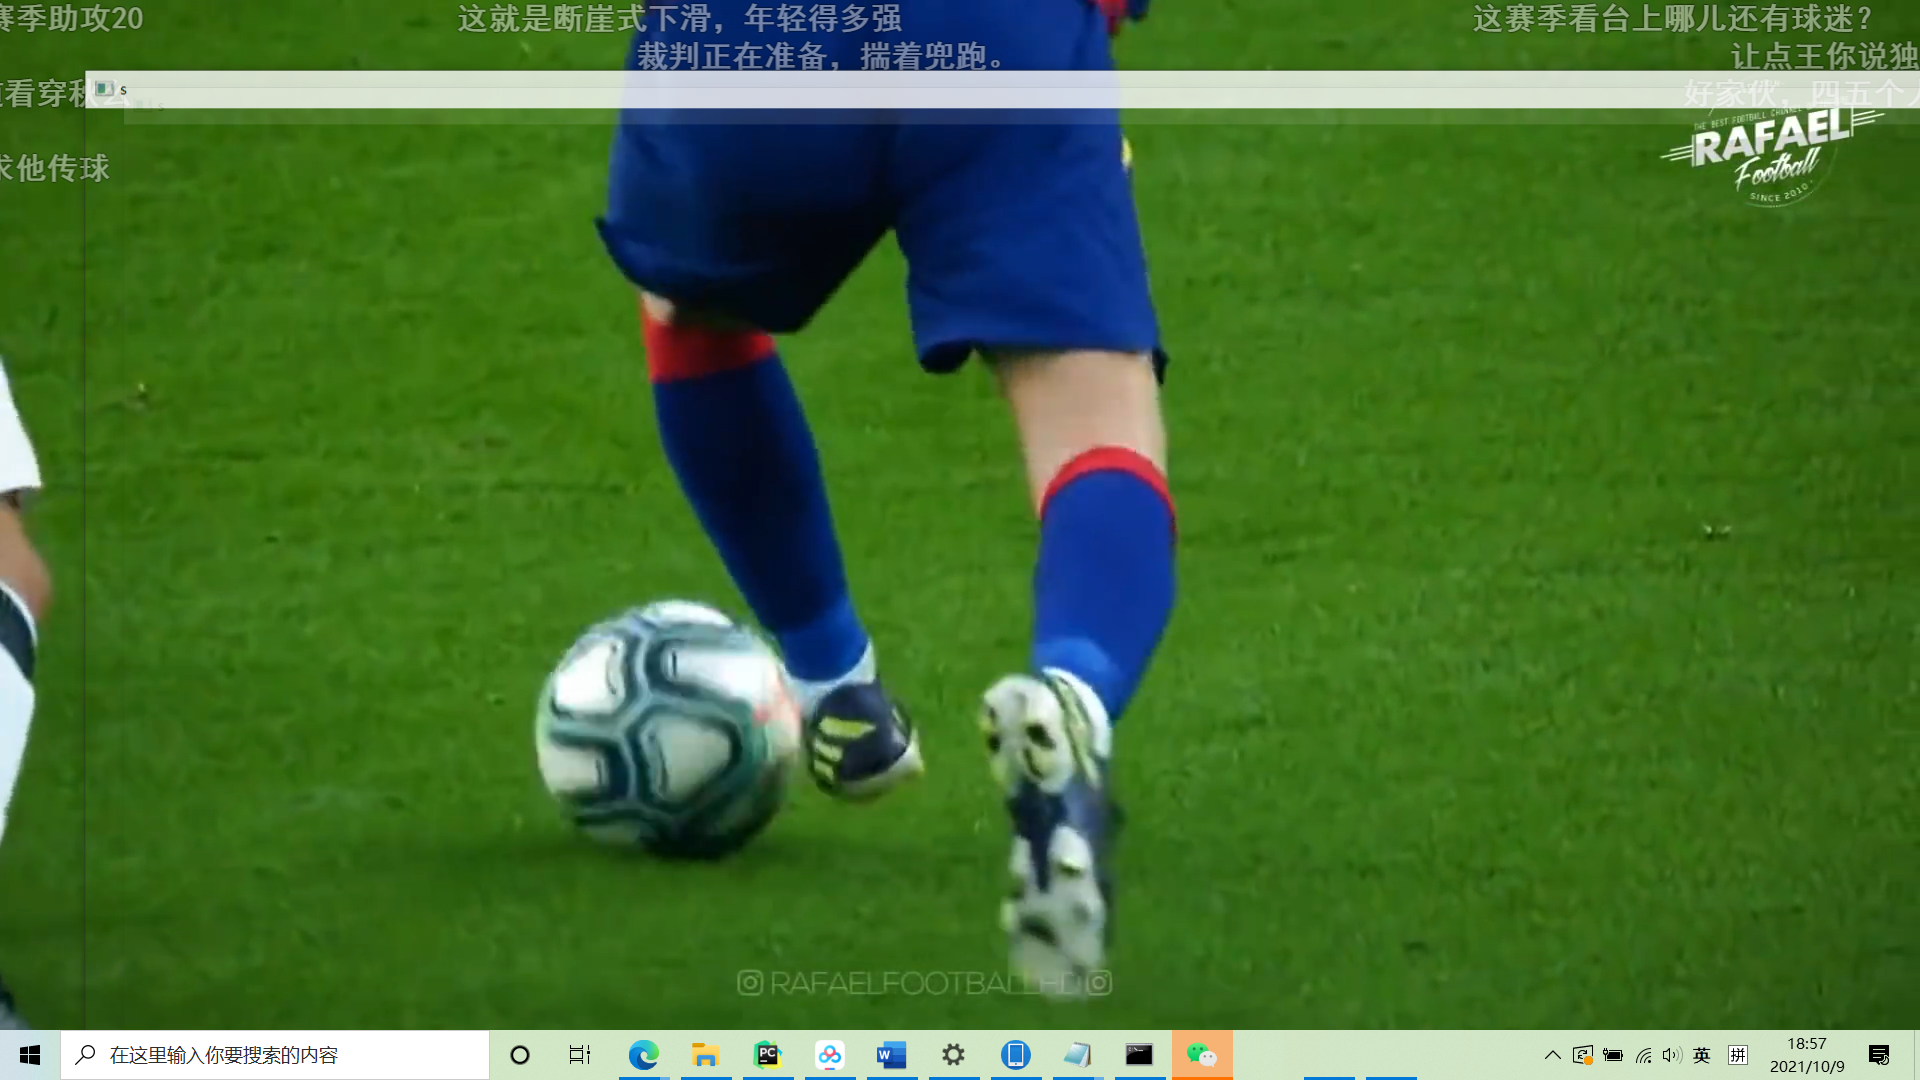ft: (520, 584, 802, 872)
